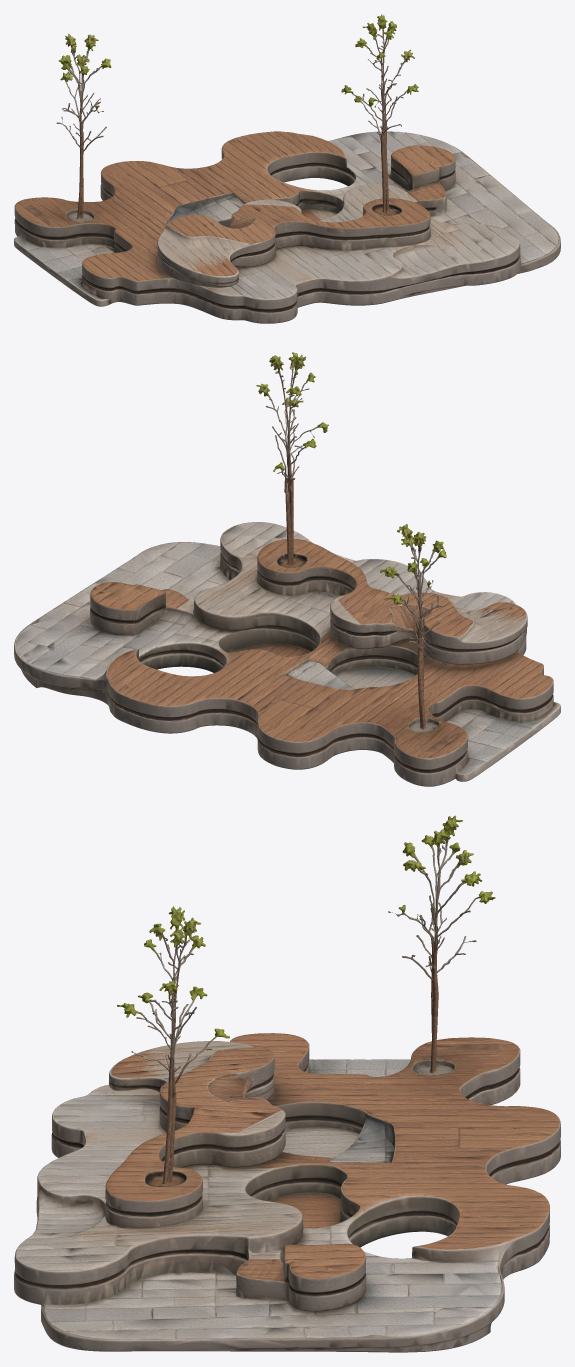
File: deckisle.glb
3 views of the same model, one above another, from view 1: azimuth 30°, elevation 25°; view 2: azimuth 150°, elevation 25°; view 3: azimuth 270°, elevation 25° (orthographic). The views are drawn at different scales.
Visible parts, largest first — view 1: tripo_node_9644e7e2-6c19-4288-a1f3-ad5e427e5658; view 2: tripo_node_9644e7e2-6c19-4288-a1f3-ad5e427e5658; view 3: tripo_node_9644e7e2-6c19-4288-a1f3-ad5e427e5658.
Part boxes in pixels (bbox=[...]): tripo_node_9644e7e2-6c19-4288-a1f3-ad5e427e5658: bbox=[14, 14, 560, 323]; tripo_node_9644e7e2-6c19-4288-a1f3-ad5e427e5658: bbox=[14, 352, 560, 786]; tripo_node_9644e7e2-6c19-4288-a1f3-ad5e427e5658: bbox=[14, 815, 560, 1352].
Size of the model in its own units: 0.9103 by 0.5 by 0.7264.
Materials: 1 (1 with a texture image).
